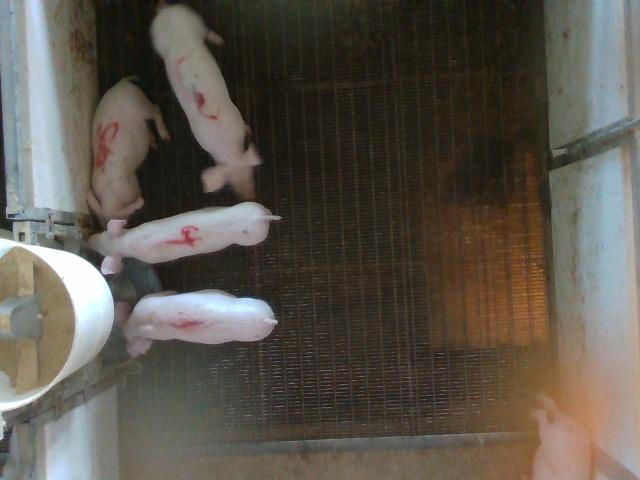pig-1: (115, 290, 278, 357)
pig-3: (151, 5, 261, 200)
pig-4: (88, 201, 280, 273)
pig-5: (86, 76, 170, 226)
